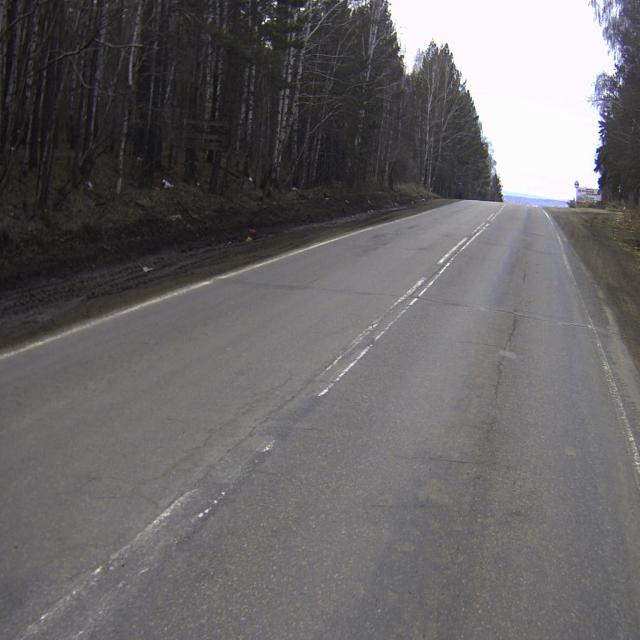road: (0, 200, 640, 639)
